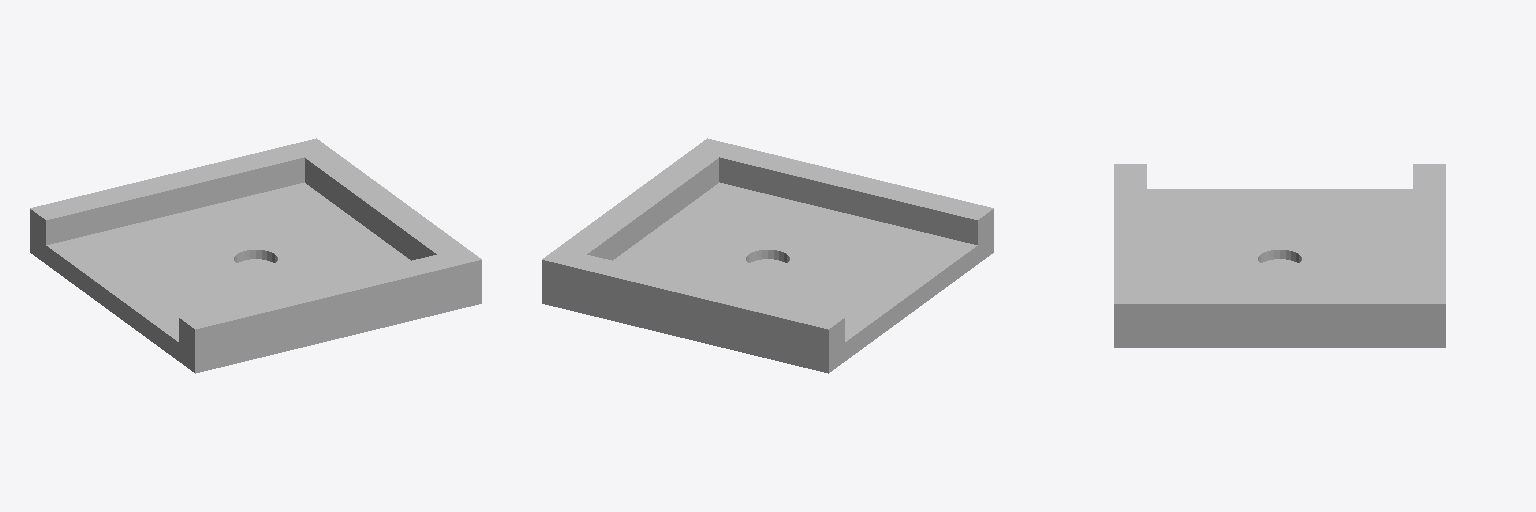
The model's file is holeSquare.obj.
3 renders of one model, left to right at view 1: azimuth 30°, elevation 25°; view 2: azimuth 150°, elevation 25°; view 3: azimuth 270°, elevation 25°, orthographic.
Visible parts, largest first — view 1: holeSquare; view 2: holeSquare; view 3: holeSquare.
Boxes of the visible parts, x1=… form: holeSquare: x1=30, y1=138, x2=481, y2=373; holeSquare: x1=542, y1=138, x2=993, y2=373; holeSquare: x1=1114, y1=164, x2=1445, y2=347.
Bounding box in the file's own units: 0.9999 × 0.1467 × 0.9999.